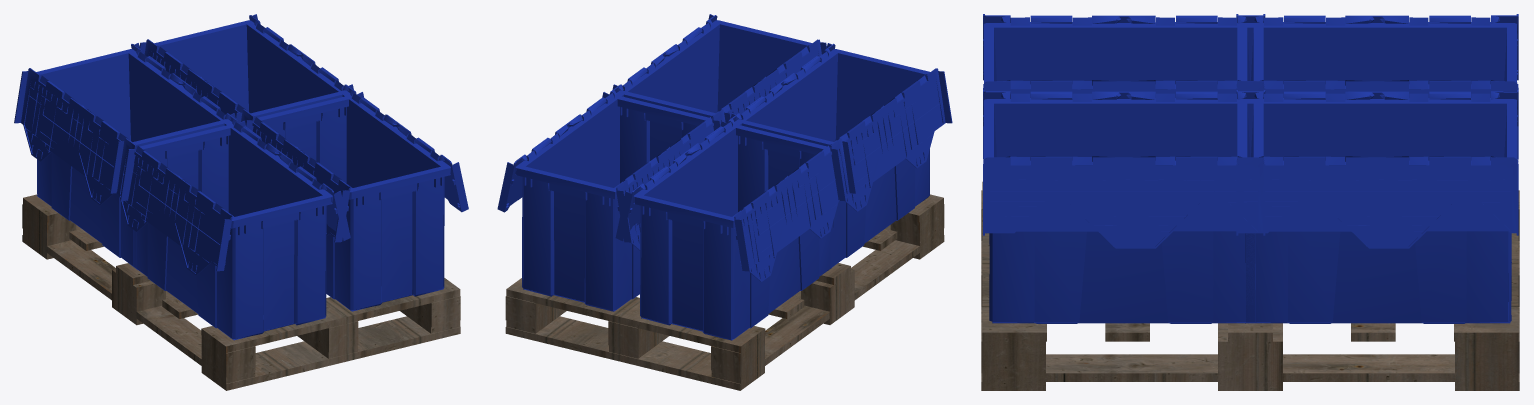
The model's file is pallet_containers.glb.
3 renders of one model, left to right at view 1: azimuth 30°, elevation 25°; view 2: azimuth 150°, elevation 25°; view 3: azimuth 270°, elevation 25°, orthographic. The views are drawn at different scales.
Parts seen in each view (by area): view 1: pallet_containers; view 2: pallet_containers; view 3: pallet_containers.
Boxes of the visible parts, bbox=[...] form: pallet_containers: bbox=[14, 14, 468, 390]; pallet_containers: bbox=[497, 14, 952, 390]; pallet_containers: bbox=[981, 14, 1519, 390].
Size of the model in its own units: 0.86 by 0.5653 by 1.2.
2 materials, 2 textured.
